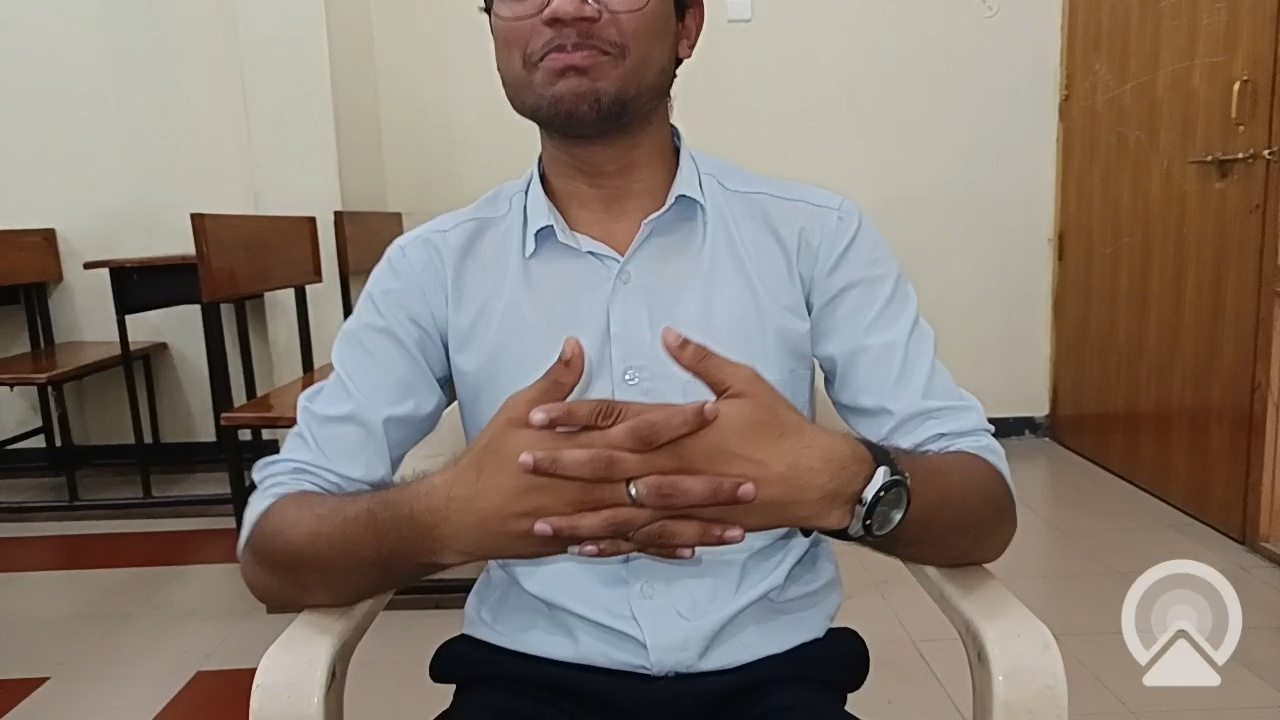W: (391, 307, 884, 615)
